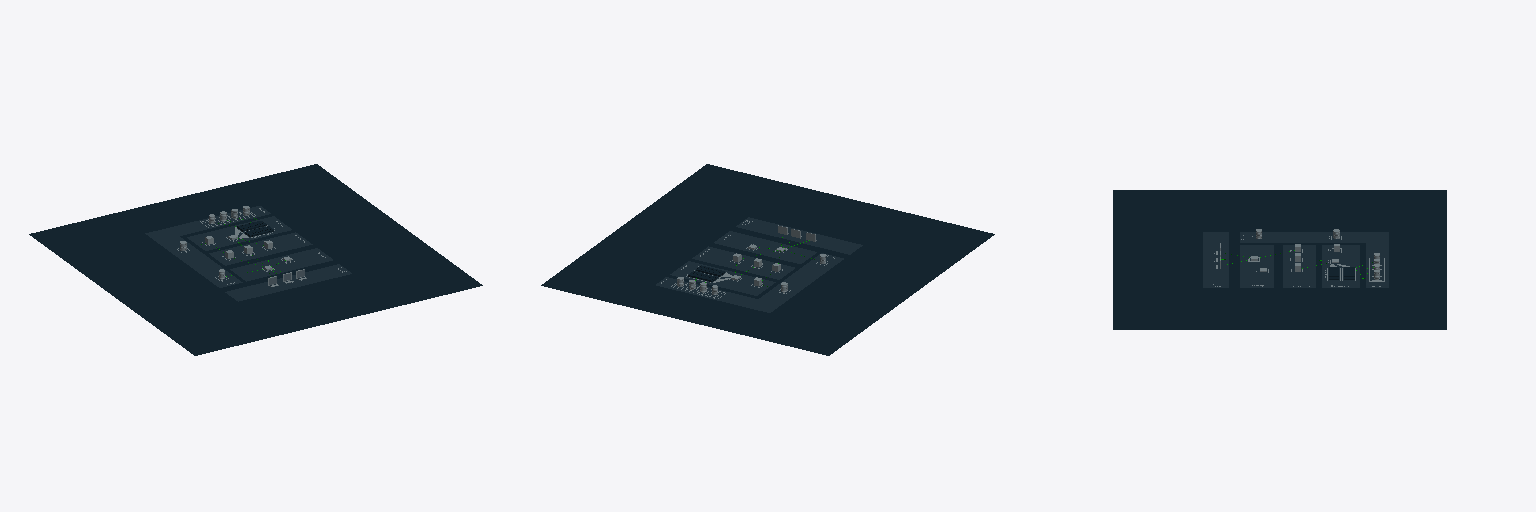
Rendered from SampleArchitecture.obj.
3 views of the same model, side by side, from view 1: azimuth 30°, elevation 25°; view 2: azimuth 150°, elevation 25°; view 3: azimuth 270°, elevation 25° (orthographic).
Visible parts, largest first — view 1: ground_Plane.002, SectorA.003_Plane.021, SectorA.000_Plane.016, SectorB_Plane.010, SectorA.001_Plane.000, SectorA.002_Plane.015; view 2: ground_Plane.002, SectorA.003_Plane.021, SectorA.000_Plane.016, SectorB_Plane.010, SectorA.001_Plane.000, SectorA.002_Plane.015; view 3: ground_Plane.002, SectorA.003_Plane.021, SectorB_Plane.010, SectorA.000_Plane.016, SectorA.001_Plane.000, SectorA.002_Plane.015.
Boxes of the visible parts, box(x1,y1,x2,y2) form: ground_Plane.002: box(29, 164, 482, 355); SectorA.003_Plane.021: box(145, 206, 270, 287); SectorA.000_Plane.016: box(230, 248, 332, 281); SectorB_Plane.010: box(225, 264, 351, 301); SectorA.001_Plane.000: box(209, 232, 312, 265); SectorA.002_Plane.015: box(187, 216, 291, 250); ground_Plane.002: box(541, 164, 994, 355); SectorA.003_Plane.021: box(656, 253, 843, 312); SectorA.000_Plane.016: box(714, 231, 816, 263); SectorB_Plane.010: box(736, 217, 862, 254); SectorA.001_Plane.000: box(692, 246, 794, 279); SectorA.002_Plane.015: box(670, 261, 775, 295); ground_Plane.002: box(1113, 190, 1446, 329); SectorA.003_Plane.021: box(1240, 232, 1388, 287); SectorB_Plane.010: box(1203, 232, 1228, 287); SectorA.000_Plane.016: box(1240, 245, 1273, 287); SectorA.001_Plane.000: box(1283, 245, 1315, 287); SectorA.002_Plane.015: box(1322, 245, 1359, 287).
Bounding box in the file's own units: 39.55 × 1.04 × 39.55.